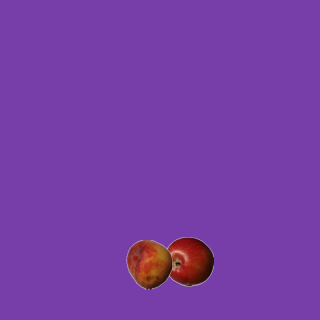Apple Braeburn: (163, 236, 213, 286)
Peach: (124, 239, 174, 289)
